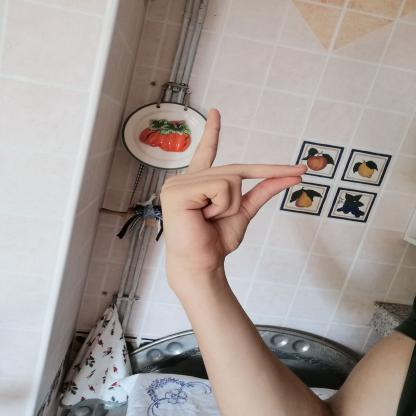TAA: (145, 100, 317, 281)
